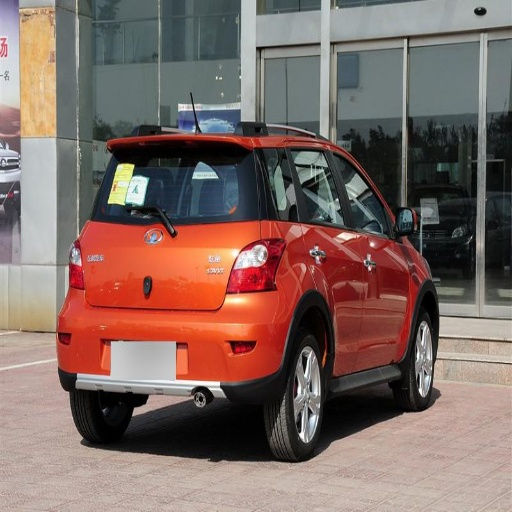back_bumper: (57, 288, 291, 399)
back_right_door: (273, 143, 370, 370)
trunk: (82, 223, 260, 310)
